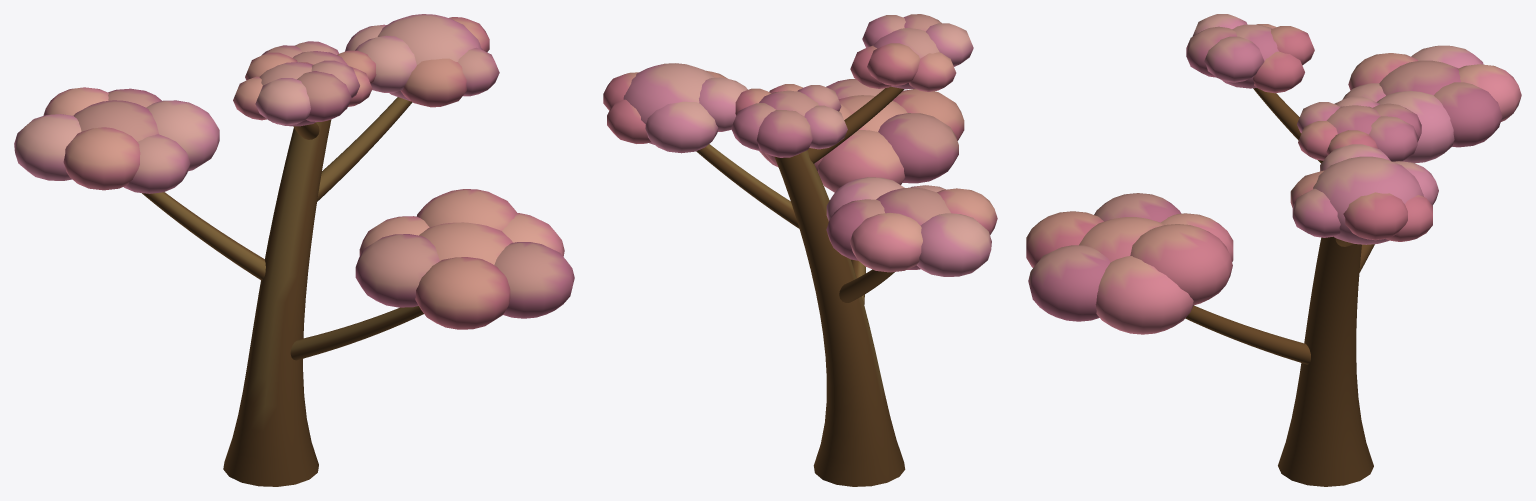
The model's file is cloud-tree-102.obj.
The picture shows the model from 3 angles, left to right: view 1: azimuth 30°, elevation 25°; view 2: azimuth 150°, elevation 25°; view 3: azimuth 270°, elevation 25°; orthographic projection. The views are drawn at different scales.
Visible parts, largest first — view 1: tree; view 2: tree; view 3: tree.
Boxes of the visible parts, x1,y1,x2,y2 form: tree: (14,14,574,486); tree: (603,14,997,486); tree: (1026,14,1521,486).
Bounding box in the file's own units: 309 × 298 × 309.
